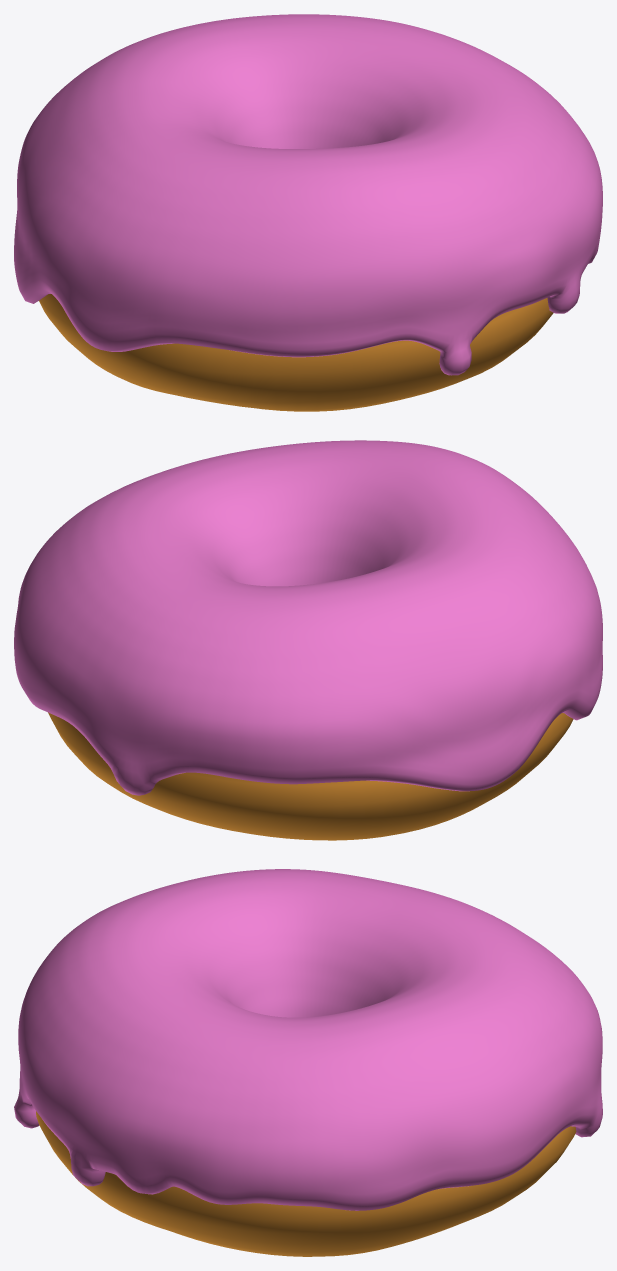
The model's file is Donut.glb.
3 renders of one model, top to bottom at view 1: azimuth 30°, elevation 25°; view 2: azimuth 150°, elevation 25°; view 3: azimuth 270°, elevation 25°, orthographic. The views are drawn at different scales.
Visible parts, largest first — view 1: Icing, Donut; view 2: Icing, Donut; view 3: Icing, Donut.
Boxes of the visible parts, <box> form: Icing: <box>14,14,602,375</box>; Donut: <box>39,294,553,411</box>; Icing: <box>14,440,602,795</box>; Donut: <box>48,712,573,840</box>; Icing: <box>14,869,602,1210</box>; Donut: <box>36,1111,576,1256</box>.
Size of what is drawn, in the model's own units: 0.1039 by 0.0488 by 0.1039.
